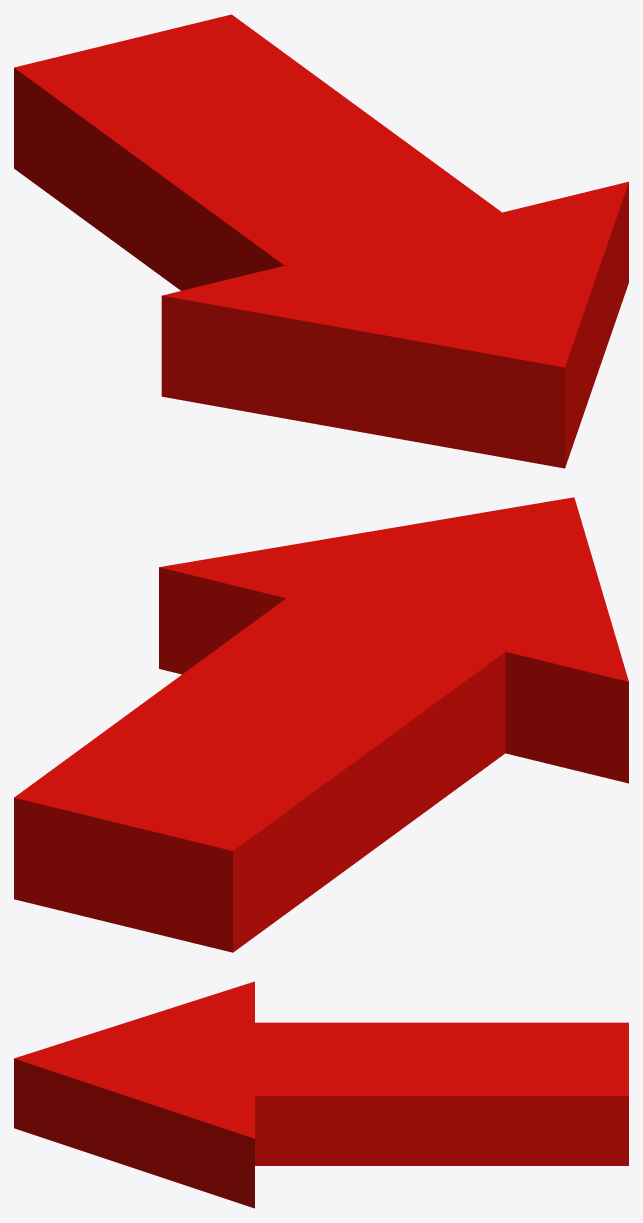
Rendered from allow.fbx.
3 renders of one model, top to bottom at view 1: azimuth 30°, elevation 25°; view 2: azimuth 150°, elevation 25°; view 3: azimuth 270°, elevation 25°, orthographic. The views are drawn at different scales.
Visible parts, largest first — view 1: Cube; view 2: Cube; view 3: Cube.
Part boxes in pixels (x1,y1,x2,y2): Cube: (14, 14, 628, 468); Cube: (14, 497, 628, 952); Cube: (14, 981, 628, 1208).
Size of the model in its own units: 309 by 63.88 by 510.
